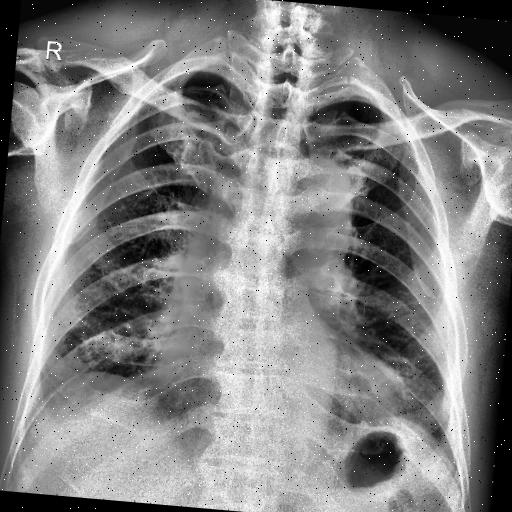0- Aortic enlargement: (264, 151, 356, 279), (289, 150, 360, 242), (282, 156, 356, 242)
10- Pleural effusion: (433, 423, 471, 485), (20, 372, 47, 444)
11- Pleural thickening: (433, 423, 471, 485), (20, 372, 47, 444)
3- Cardiomegaly: (146, 341, 414, 464), (152, 332, 412, 446), (146, 335, 400, 430)
